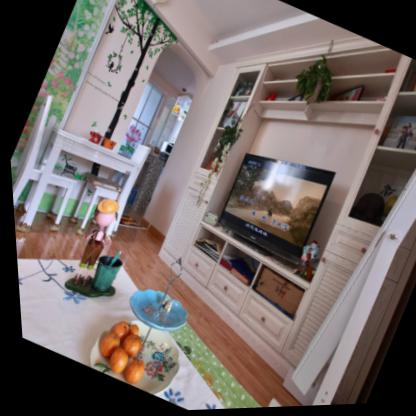Shelf: (325, 58, 416, 253)
TV stand: (158, 208, 324, 355)
